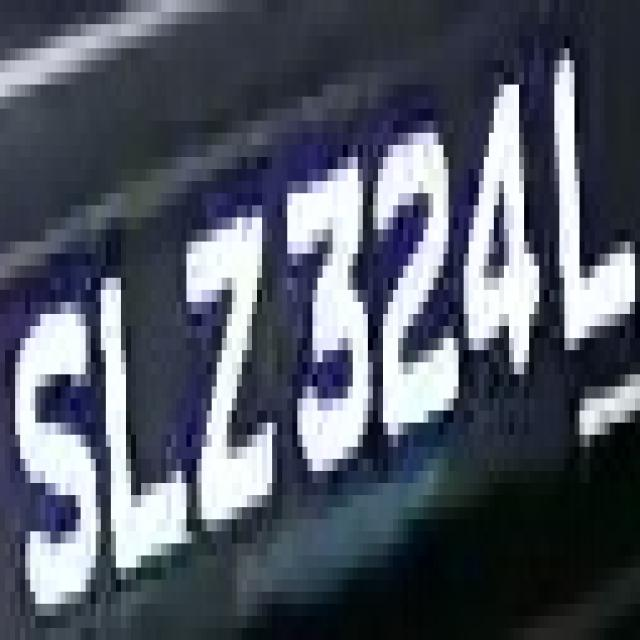2: (358, 97, 468, 471)
3: (262, 121, 388, 495)
4: (434, 72, 540, 422)
L: (86, 205, 196, 628), (544, 24, 635, 387)
S: (10, 265, 100, 640)
Z: (172, 181, 298, 556)
